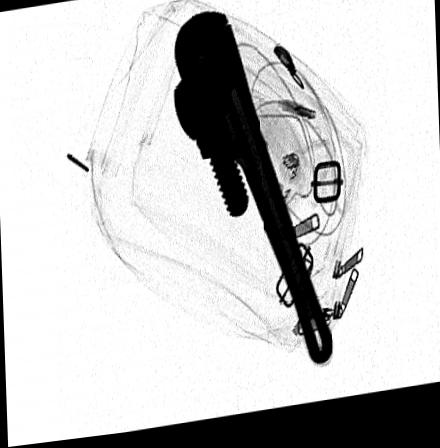Wrench: (169, 13, 334, 375)
